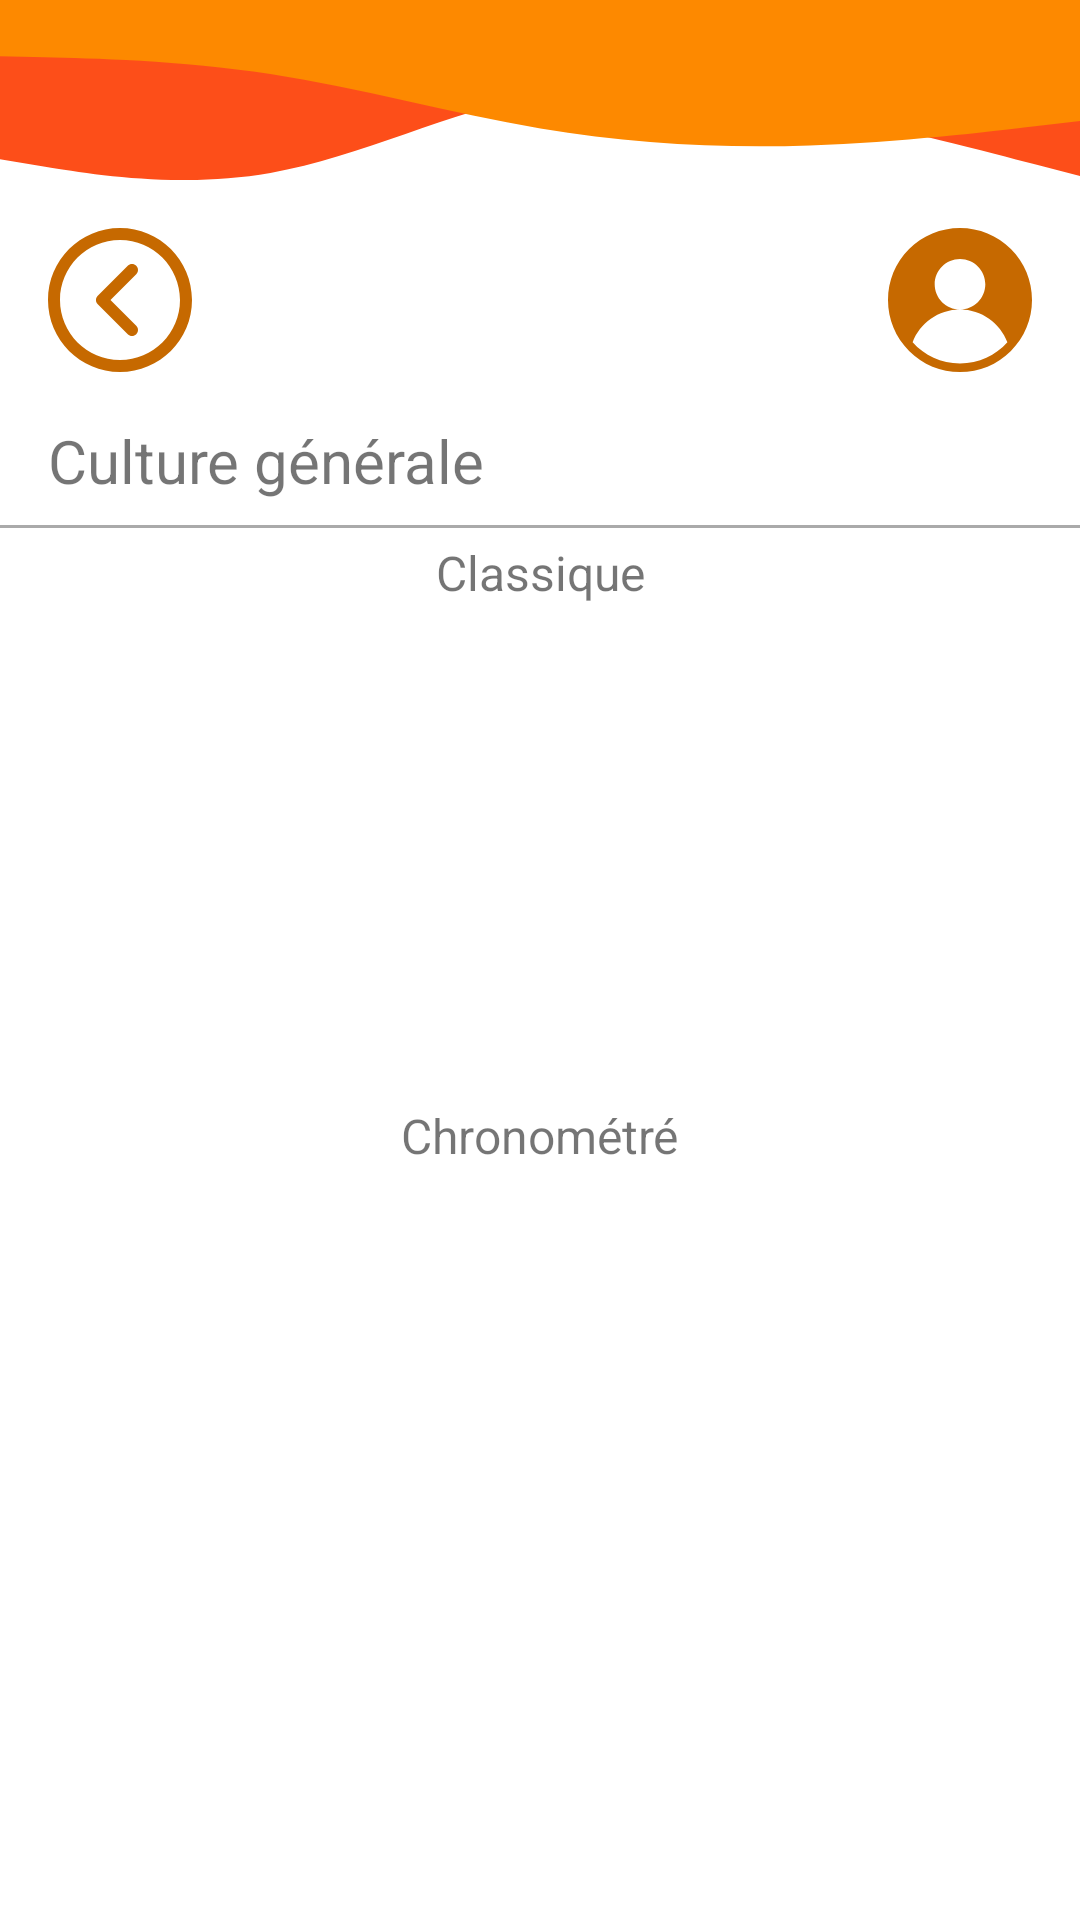

Named icons in this screenshot (1080px x 1920px) and their centers, [x,y]:
previous: [120,300]
user: [960,300]
